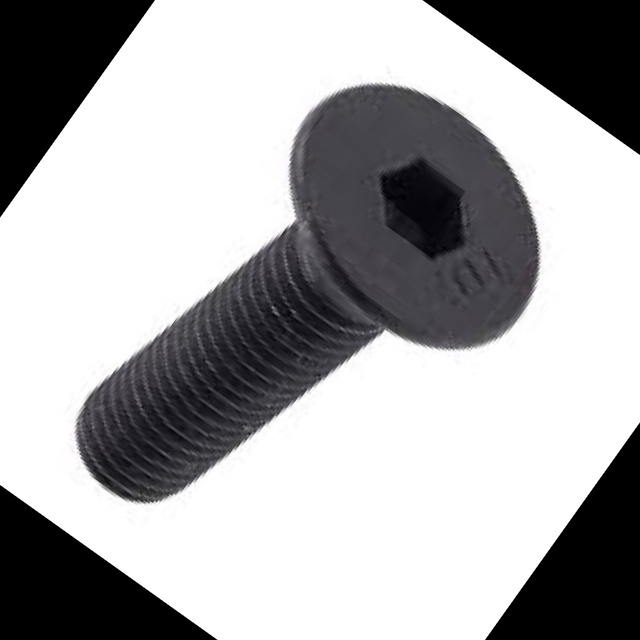torx: (229, 39, 596, 389)
